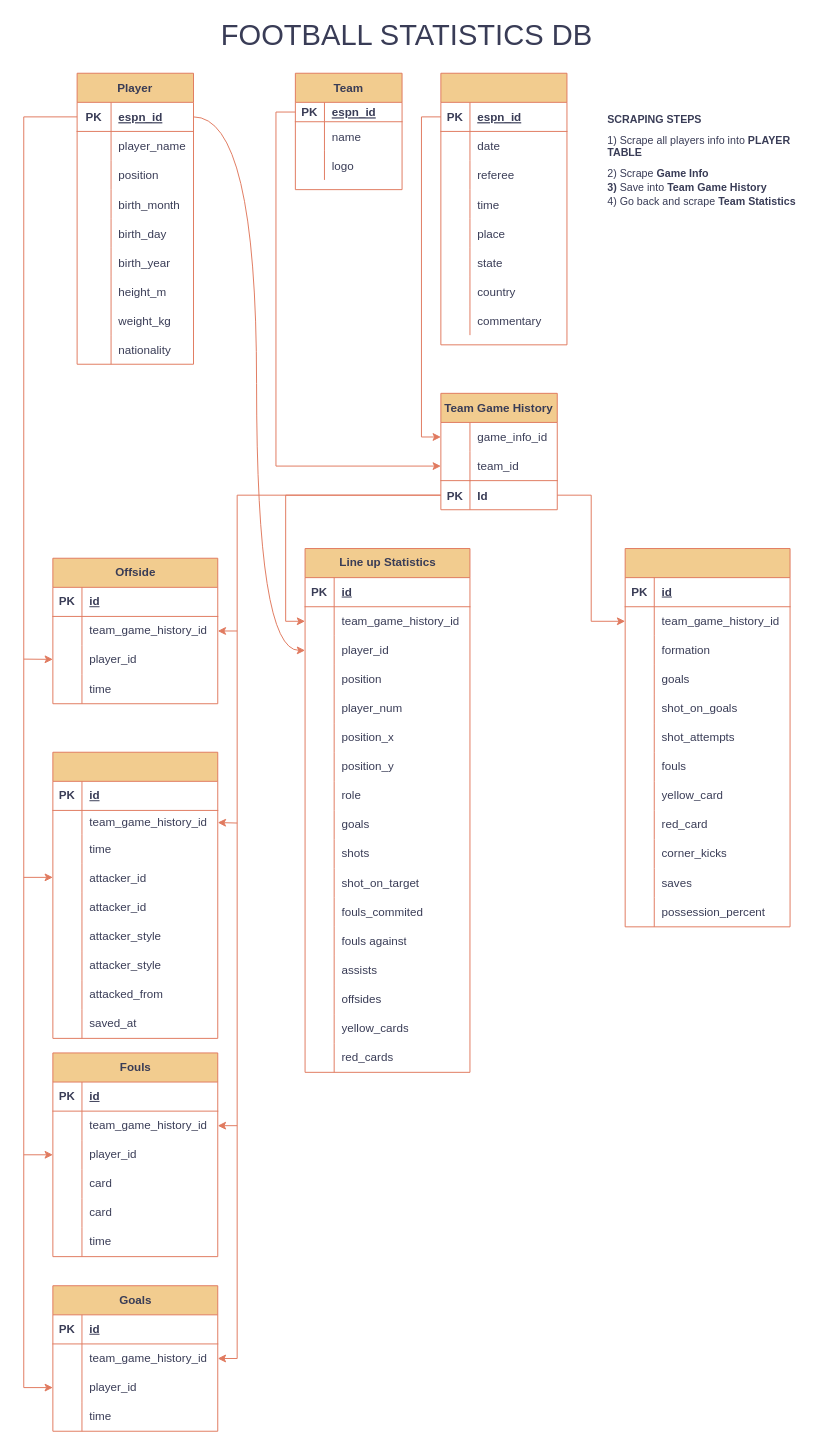
Image size: 836x1448. Some labels were removed from this diagram. Each missing label, with the box of its shape:
Free Kick: (52, 751, 218, 1038)
Game Info: (440, 72, 567, 345)
Team Statistics: (624, 548, 790, 927)
